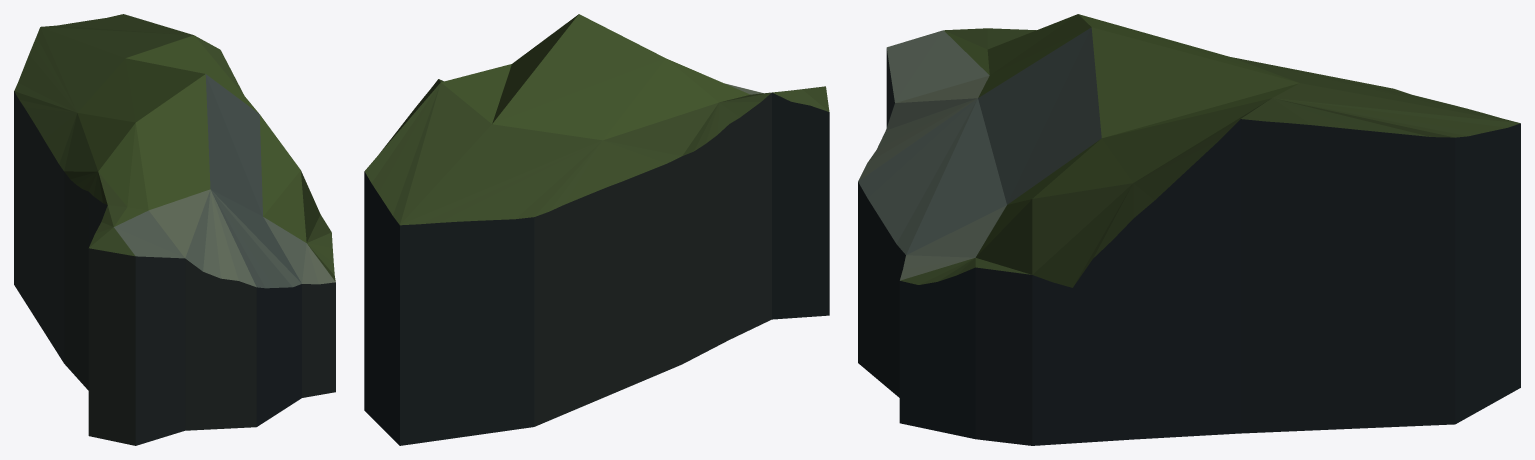
Rendered from cliff_sections_10d_shadow_buttress.glb.
3 renders of one model, left to right at view 1: azimuth 30°, elevation 25°; view 2: azimuth 150°, elevation 25°; view 3: azimuth 270°, elevation 25°, orthographic. The views are drawn at different scales.
Visible parts, largest first — view 1: Front columns study; view 2: Front columns study; view 3: Front columns study.
Boxes of the visible parts, x1,y1,x2,y2 form: Front columns study: [14, 14, 335, 445]; Front columns study: [364, 14, 829, 445]; Front columns study: [858, 14, 1520, 445].
Bounding box in the file's own units: 63.16 × 63 × 105.
